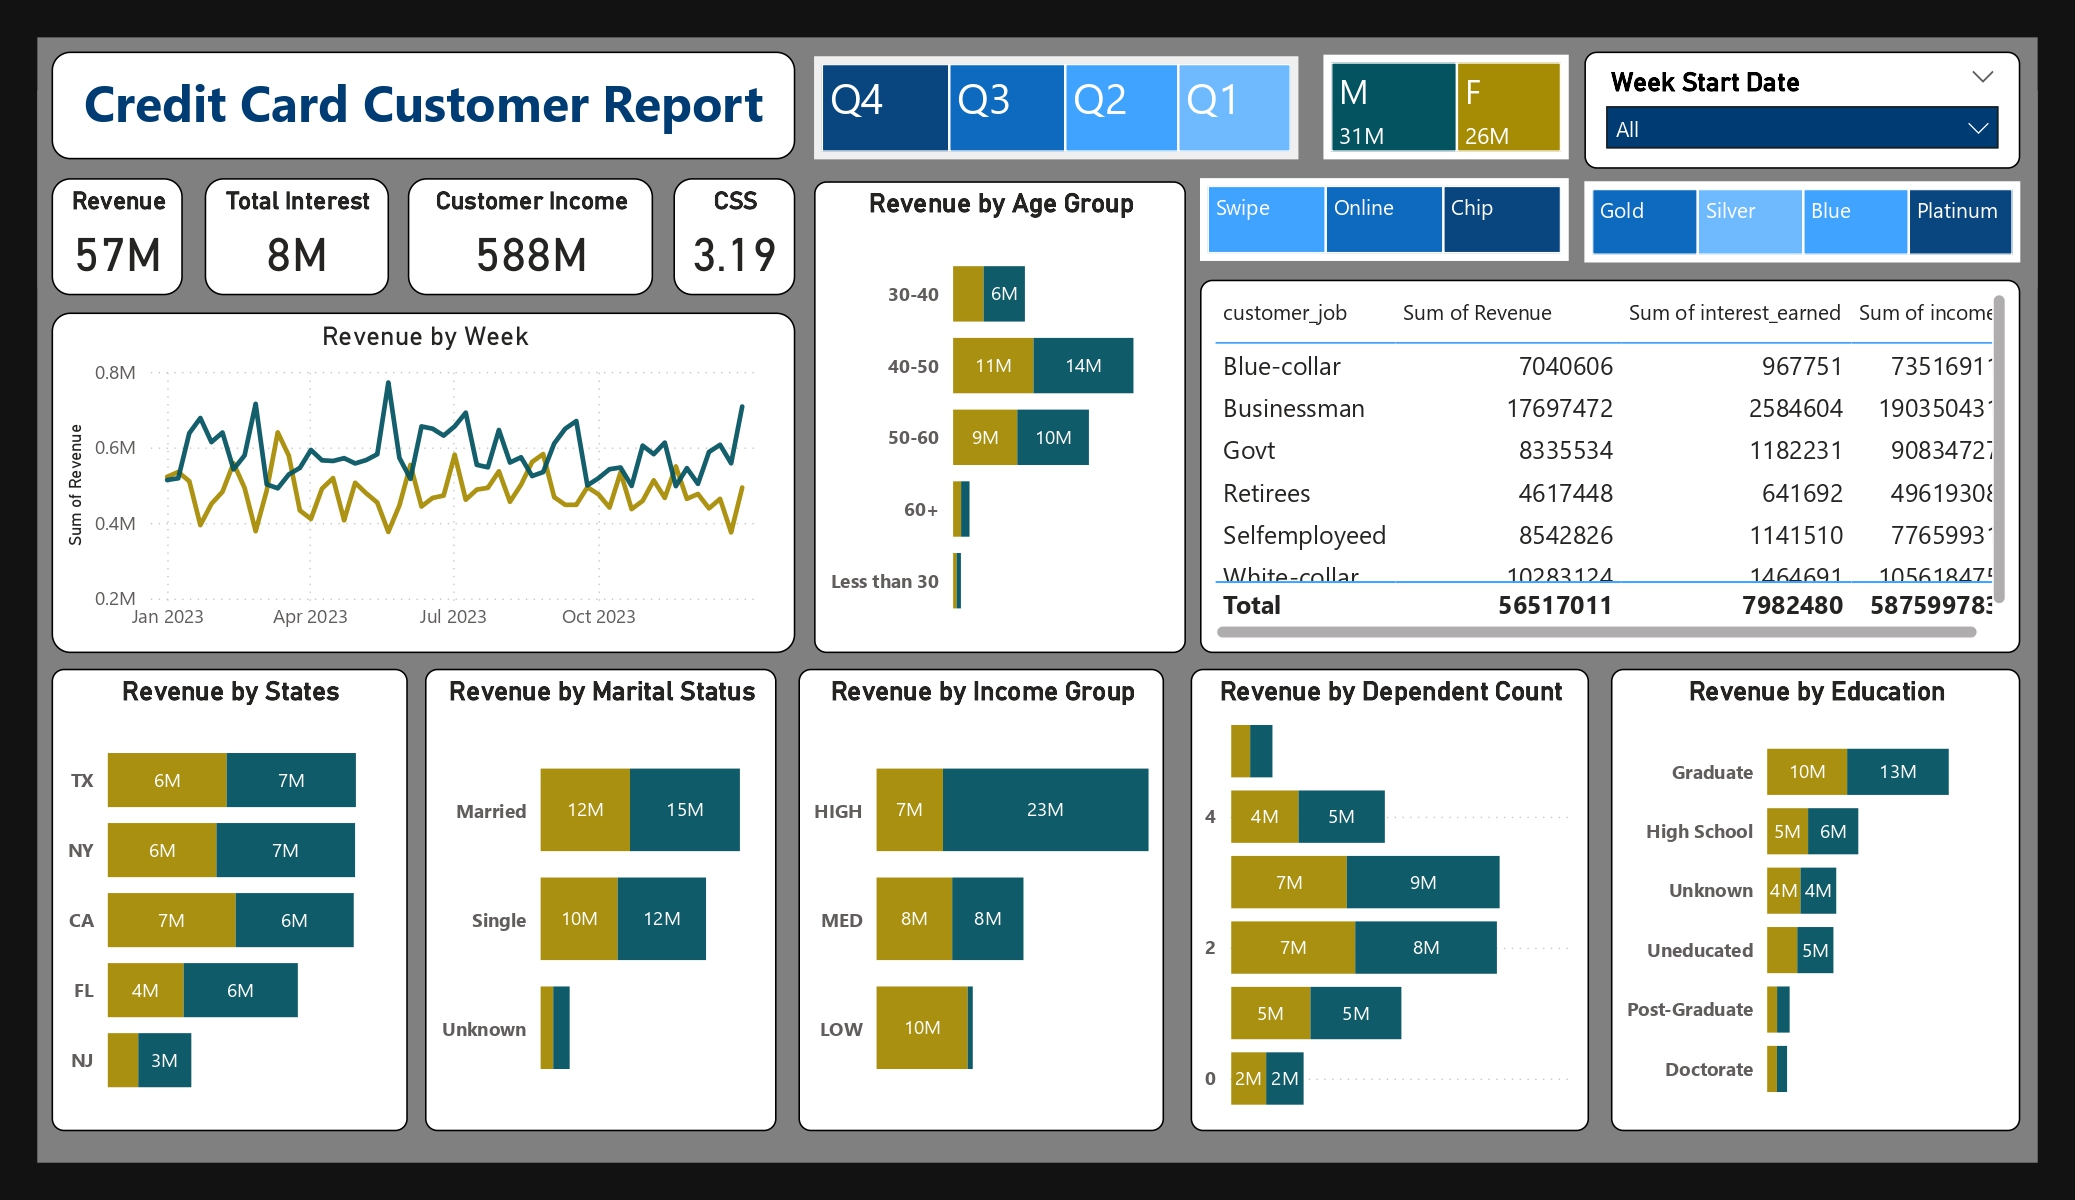

The page's visual inventory and layout, read from the dashboard file:
{"tool":"powerbi","page":{"name":"C_Customer","canvas":[1280,720],"ordinal":2},"visuals":[{"type":"textbox","box":[9,9,476.2,69.1],"z":0},{"type":"barChart","title":" Revenue by Income Group","fields":{"Y":["Sum(public cc_detail.Revenue)"],"Category":["public cust_detail.IncomeGroup"],"Series":["public cust_detail.gender"]},"box":[486.8,404.1,234.4,296],"z":1000},{"type":"tableEx","title":" Revenue by expenditure type","fields":{"Values":["public cust_detail.customer_job","Sum(public cc_detail.Revenue)","Sum(public cc_detail.interest_earned)","Sum(public cust_detail.income)"]},"box":[743.7,154.7,525.8,238.9],"z":2000},{"type":"card","title":"Revenue","fields":{"Values":["Sum(public cc_detail.Revenue)"]},"box":[9,90.1,84.1,75.1],"z":3000},{"type":"card","title":"Customer Income","fields":{"Values":["Sum(public cust_detail.income)"]},"box":[237.4,90.1,156.2,75.1],"z":4000},{"type":"card","title":"Total Interest","fields":{"Values":["Sum(public cc_detail.interest_earned)"]},"box":[106.7,90.1,118.7,75.1],"z":5000},{"type":"card","title":"CSS","fields":{"Values":["Avg(public cust_detail.cust_satisfaction_score)"]},"box":[407.1,90.1,78.1,75.1],"z":6000},{"type":"slicer","fields":{"Values":["public cc_detail.week_start_date"]},"box":[990,9,279.4,75.1],"z":7000},{"type":"treemap","fields":{"Group":["public cc_detail.qtr"],"Values":["Avg(public cc_detail.client_num)"]},"box":[497.3,12,309.5,66.1],"z":8000},{"type":"treemap","fields":{"Values":["Avg(public cc_detail.client_num)"],"Group":["public cc_detail.card_category"]},"box":[990,91.6,279.4,52.6],"z":10000},{"type":"lineChart","title":"Revenue by Week","fields":{"Y":["Sum(public cc_detail.Revenue)"],"Series":["public cust_detail.gender"],"Category":["public cc_detail.week_start_date.Variation.Date Hierarchy.Year","public cc_detail.week_start_date.Variation.Date Hierarchy.Quarter","public cc_detail.week_start_date.Variation.Date Hierarchy.Month","public cc_detail.week_start_date.Variation.Date Hierarchy.Day"]},"box":[9,175.8,476.2,217.8],"z":12000},{"type":"treemap","fields":{"Group":["public cust_detail.gender"],"Values":["Sum(public cc_detail.Revenue)"]},"box":[823.3,10.5,156.2,67.6],"z":13000},{"type":"barChart","title":" Revenue by Age Group","fields":{"Y":["Sum(public cc_detail.Revenue)"],"Category":["public cust_detail.AgeGroup"],"Series":["public cust_detail.gender"]},"box":[497.3,91.6,237.4,302],"z":13001},{"type":"barChart","title":" Revenue by Dependent Count","fields":{"Y":["Sum(public cc_detail.Revenue)"],"Category":["public cust_detail.dependent_count"],"Series":["public cust_detail.gender"]},"box":[737.7,404.1,255.4,296],"z":13002},{"type":"barChart","title":" Revenue by Education","fields":{"Y":["Sum(public cc_detail.Revenue)"],"Category":["public cust_detail.education_level"],"Series":["public cust_detail.gender"]},"box":[1006.6,404.1,262.9,296],"z":13003},{"type":"barChart","title":" Revenue by States","fields":{"Y":["Sum(public cc_detail.Revenue)"],"Category":["public cust_detail.state_cd"],"Series":["public cust_detail.gender"]},"box":[9,404.1,228.4,296],"z":13004},{"type":"barChart","title":" Revenue by Marital Status","fields":{"Y":["Sum(public cc_detail.Revenue)"],"Category":["public cust_detail.marital_status"],"Series":["public cust_detail.gender"]},"box":[247.9,404.1,225.4,296],"z":13005},{"type":"treemap","fields":{"Values":["Avg(public cc_detail.client_num)"],"Group":["public cc_detail.use_chip"]},"box":[743.7,90.1,235.9,52.6],"z":13006}]}

Visuals, with their boxes in screenshot pixels (x1, y1, x2, y2):
textbox: pyautogui.locateOnScreen(52, 52, 796, 160)
" Revenue by Income Group" barChart: pyautogui.locateOnScreen(798, 669, 1164, 1131)
" Revenue by expenditure type" tableEx: pyautogui.locateOnScreen(1200, 279, 2021, 652)
"Revenue" card: pyautogui.locateOnScreen(52, 178, 183, 296)
"Customer Income" card: pyautogui.locateOnScreen(408, 178, 652, 296)
"Total Interest" card: pyautogui.locateOnScreen(204, 178, 390, 296)
"CSS" card: pyautogui.locateOnScreen(674, 178, 796, 296)
slicer - public cc_detail.week_start_date: pyautogui.locateOnScreen(1584, 52, 2021, 169)
treemap - public cc_detail.qtr x Avg(public cc_detail.client_num): pyautogui.locateOnScreen(815, 56, 1298, 160)
treemap - Avg(public cc_detail.client_num) x public cc_detail.card_category: pyautogui.locateOnScreen(1584, 181, 2021, 263)
"Revenue by Week" lineChart: pyautogui.locateOnScreen(52, 312, 796, 652)
treemap - public cust_detail.gender x Sum(public cc_detail.Revenue): pyautogui.locateOnScreen(1324, 54, 1568, 160)
" Revenue by Age Group" barChart: pyautogui.locateOnScreen(815, 181, 1185, 652)
" Revenue by Dependent Count" barChart: pyautogui.locateOnScreen(1190, 669, 1589, 1131)
" Revenue by Education" barChart: pyautogui.locateOnScreen(1610, 669, 2021, 1131)
" Revenue by States" barChart: pyautogui.locateOnScreen(52, 669, 408, 1131)
" Revenue by Marital Status" barChart: pyautogui.locateOnScreen(425, 669, 777, 1131)
treemap - Avg(public cc_detail.client_num) x public cc_detail.use_chip: pyautogui.locateOnScreen(1200, 178, 1568, 260)
